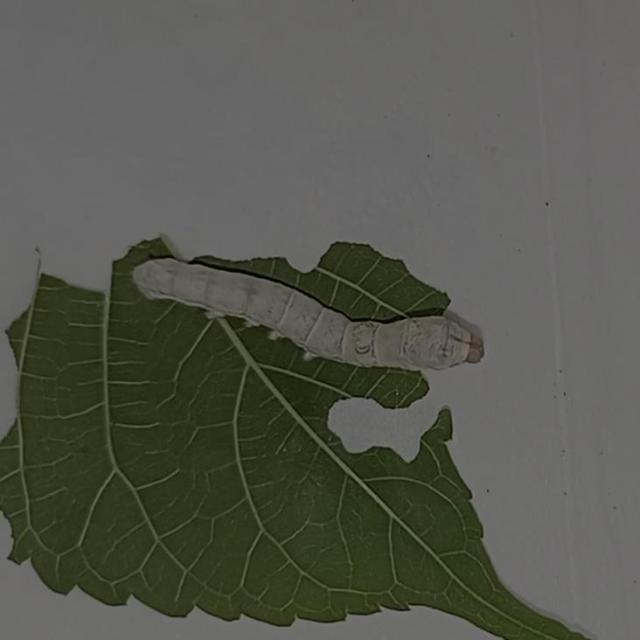Healthy: (126, 244, 488, 394)
